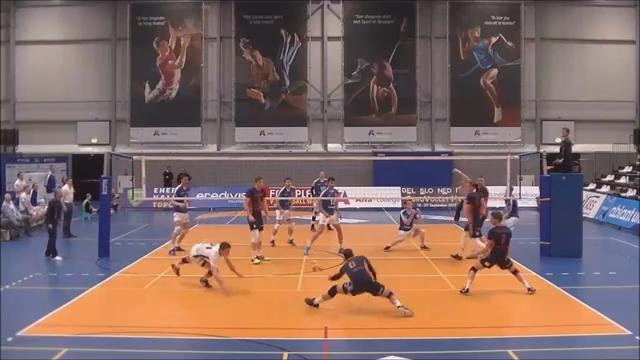Dig: (301, 245, 416, 317)
Player: (460, 211, 535, 293), (171, 242, 242, 294), (304, 177, 343, 255), (451, 183, 485, 259), (384, 200, 429, 251), (244, 177, 269, 264), (270, 177, 294, 246), (169, 177, 189, 255), (453, 169, 488, 206), (502, 186, 518, 229), (311, 200, 319, 231)
ball: (308, 262, 326, 276)
